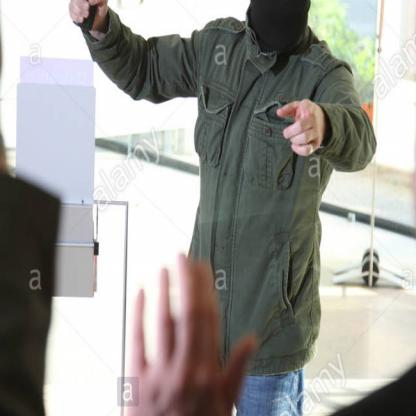gun: (48, 0, 110, 35)
